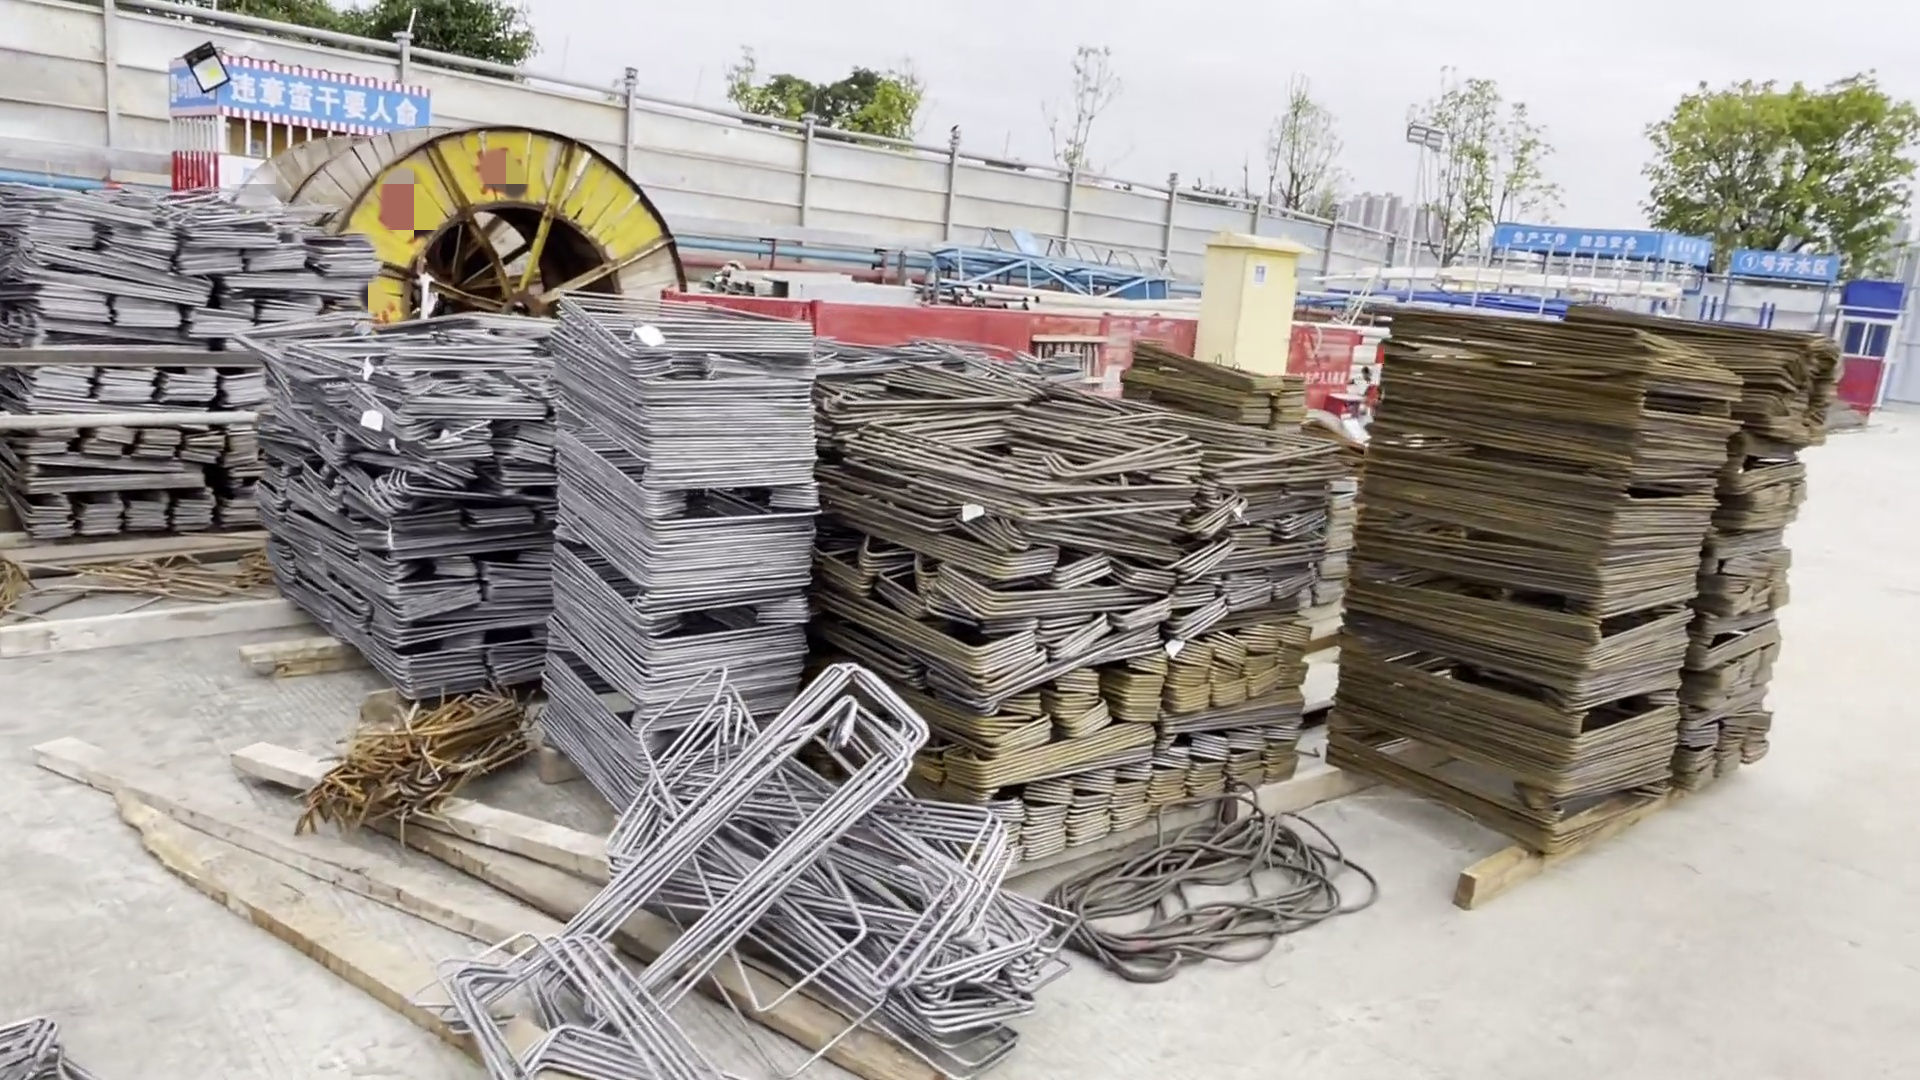ebox: (1199, 233, 1291, 384)
fence: (794, 299, 1183, 371)
slogan: (171, 71, 431, 131), (1489, 228, 1659, 257)
